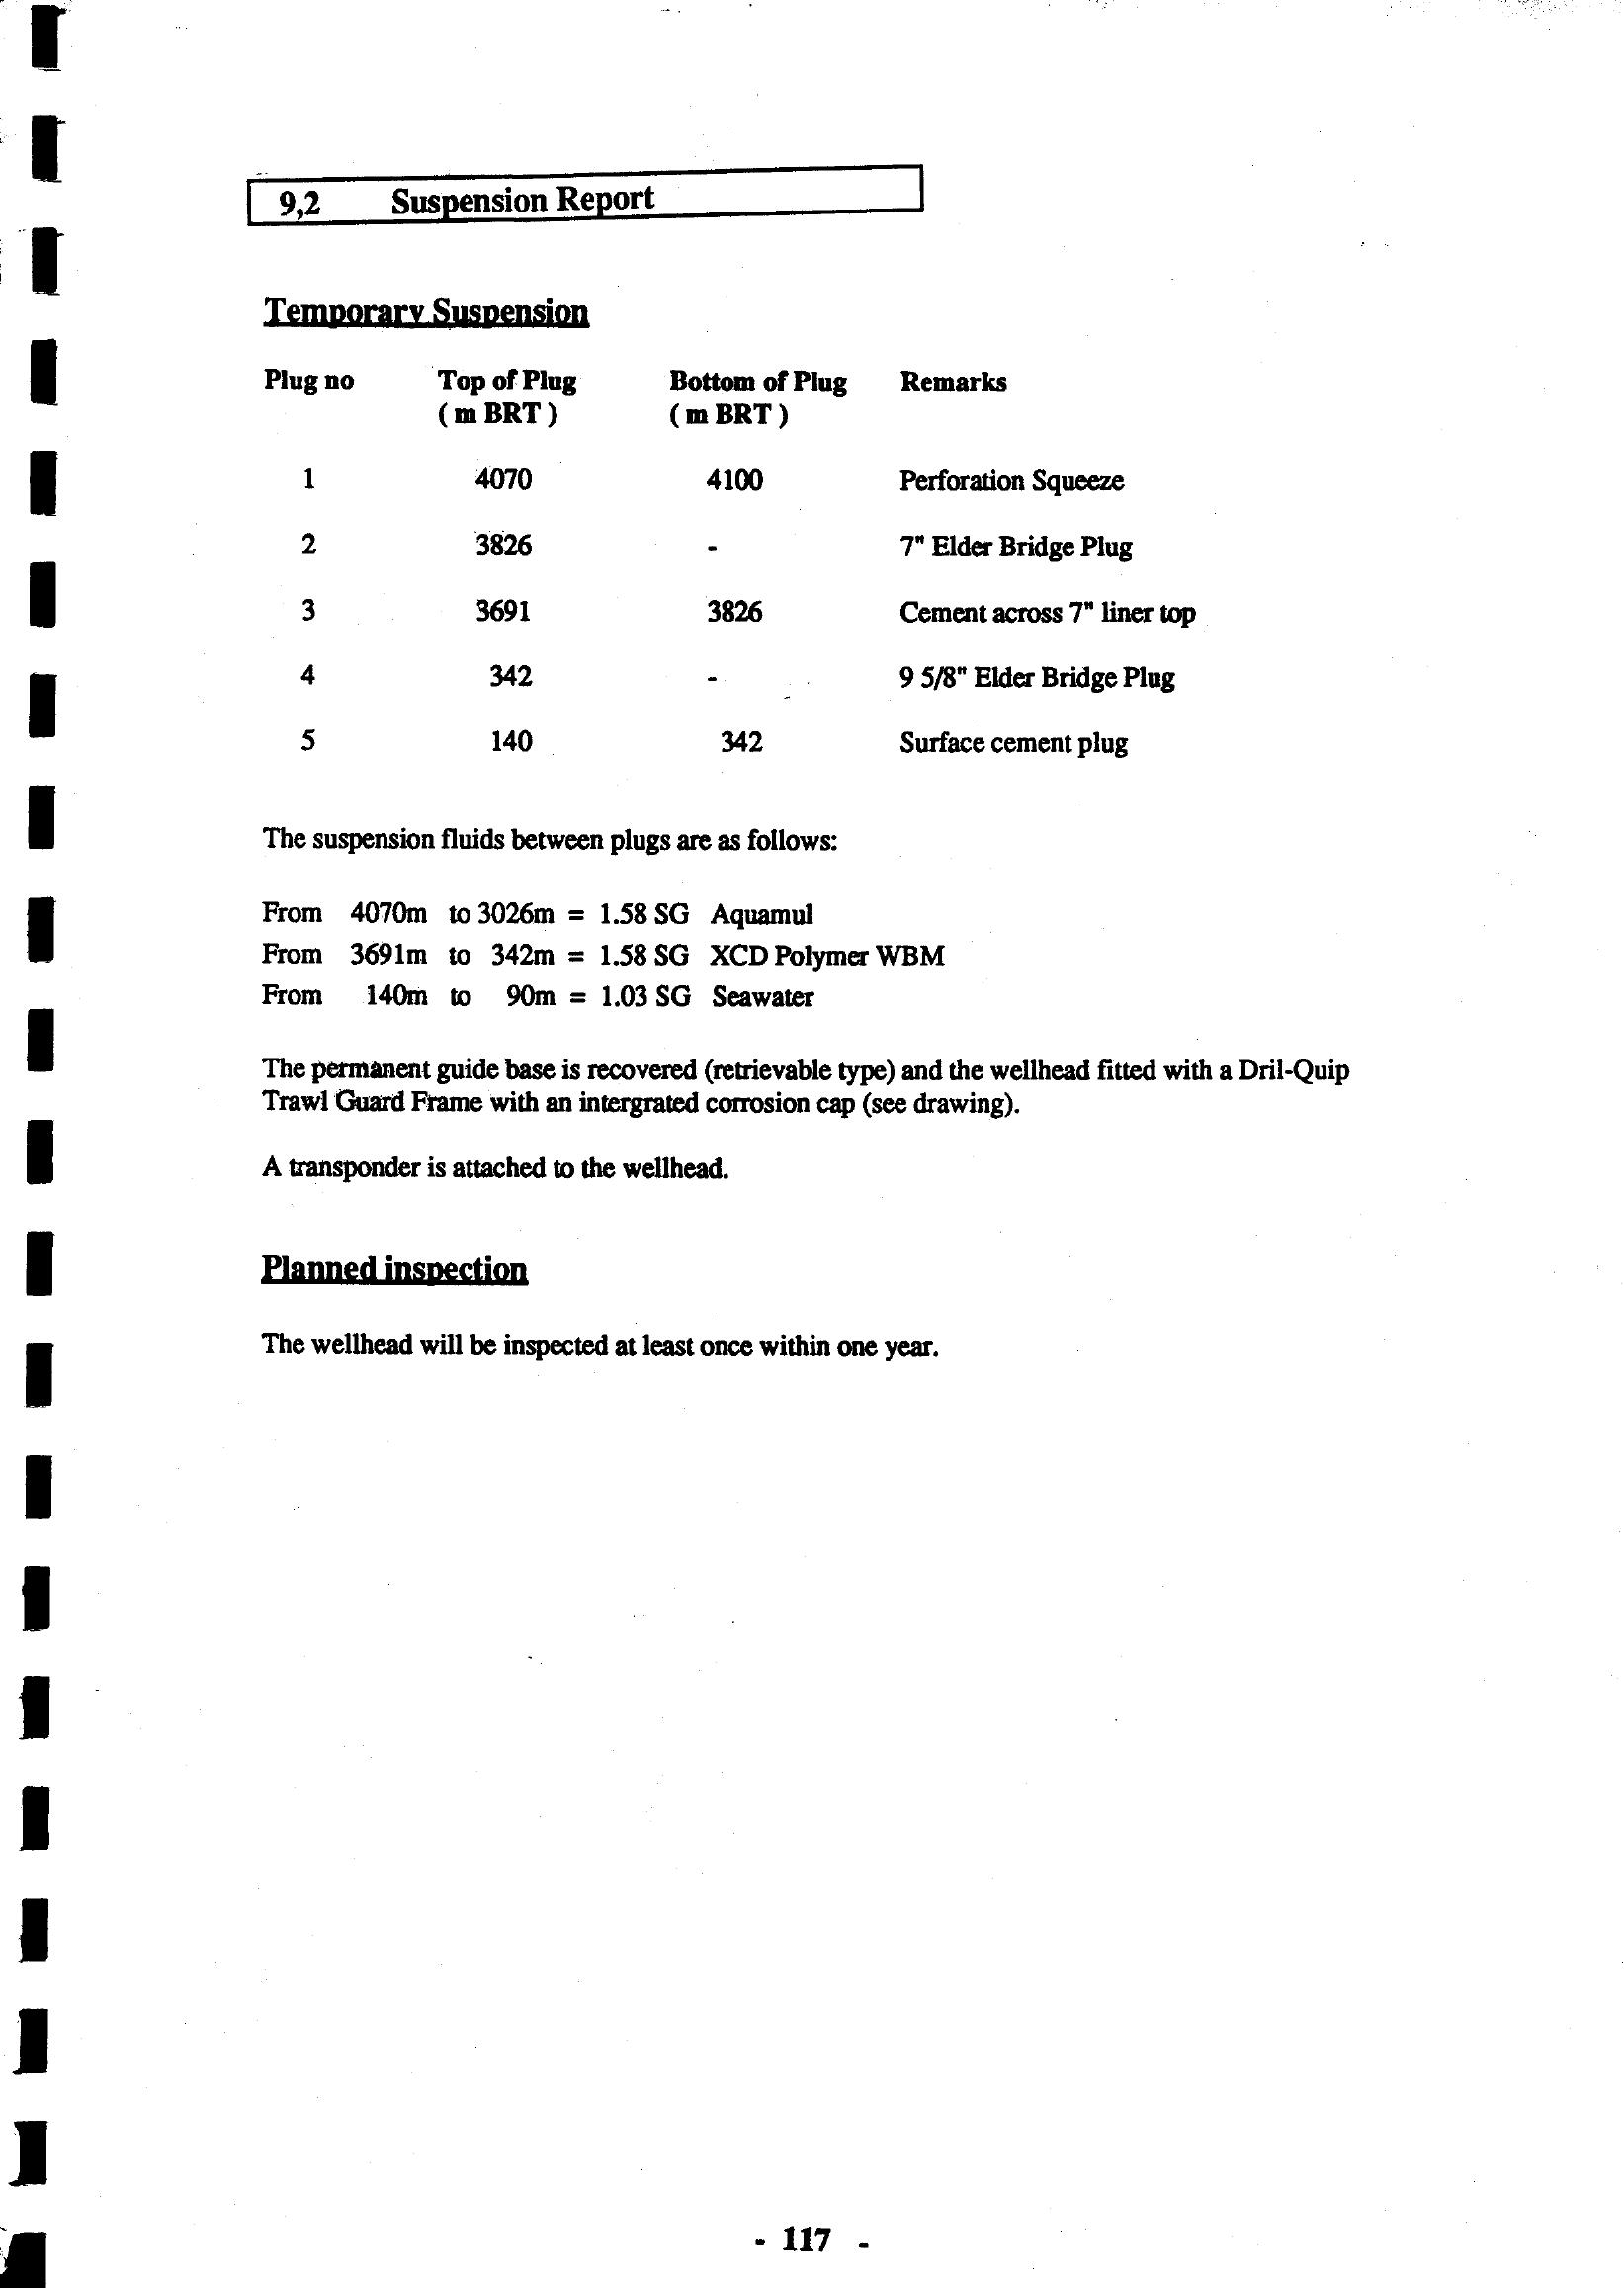table: (236, 274, 1230, 798)
text: (236, 817, 1459, 1388), (228, 153, 953, 251)
